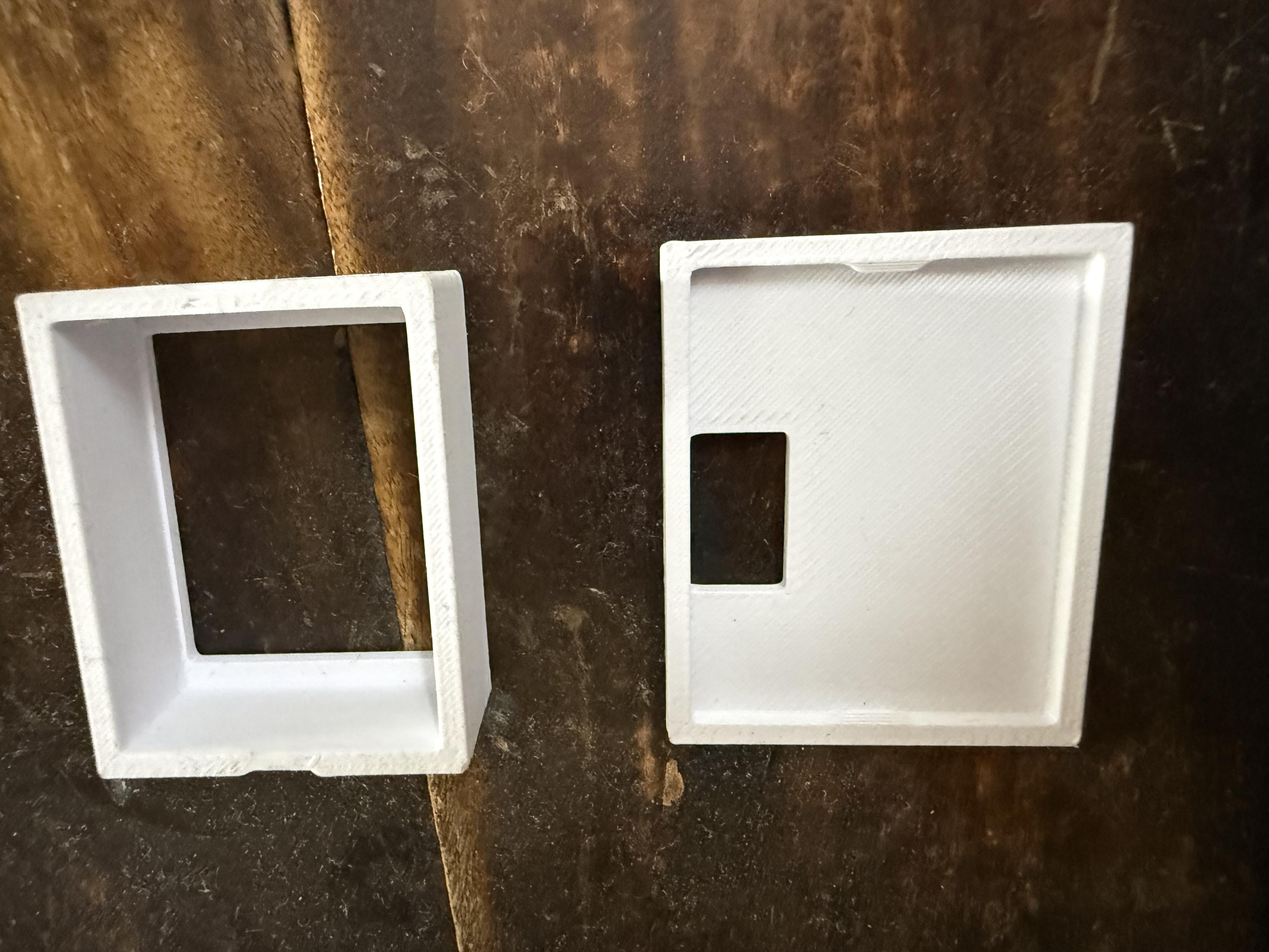enclosure: (660, 222, 1135, 747), (14, 269, 491, 780)
